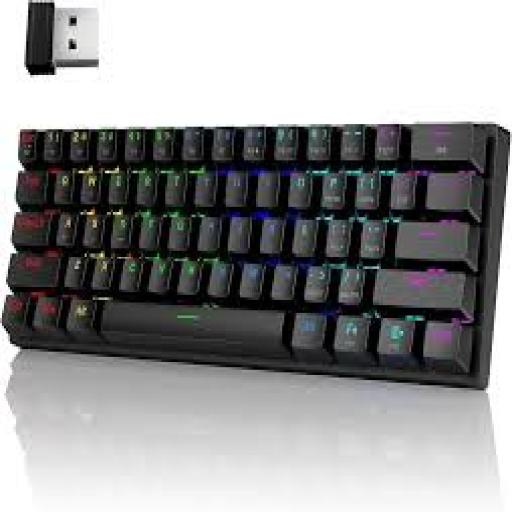KEYBOARD-2: (3, 122, 509, 387)
